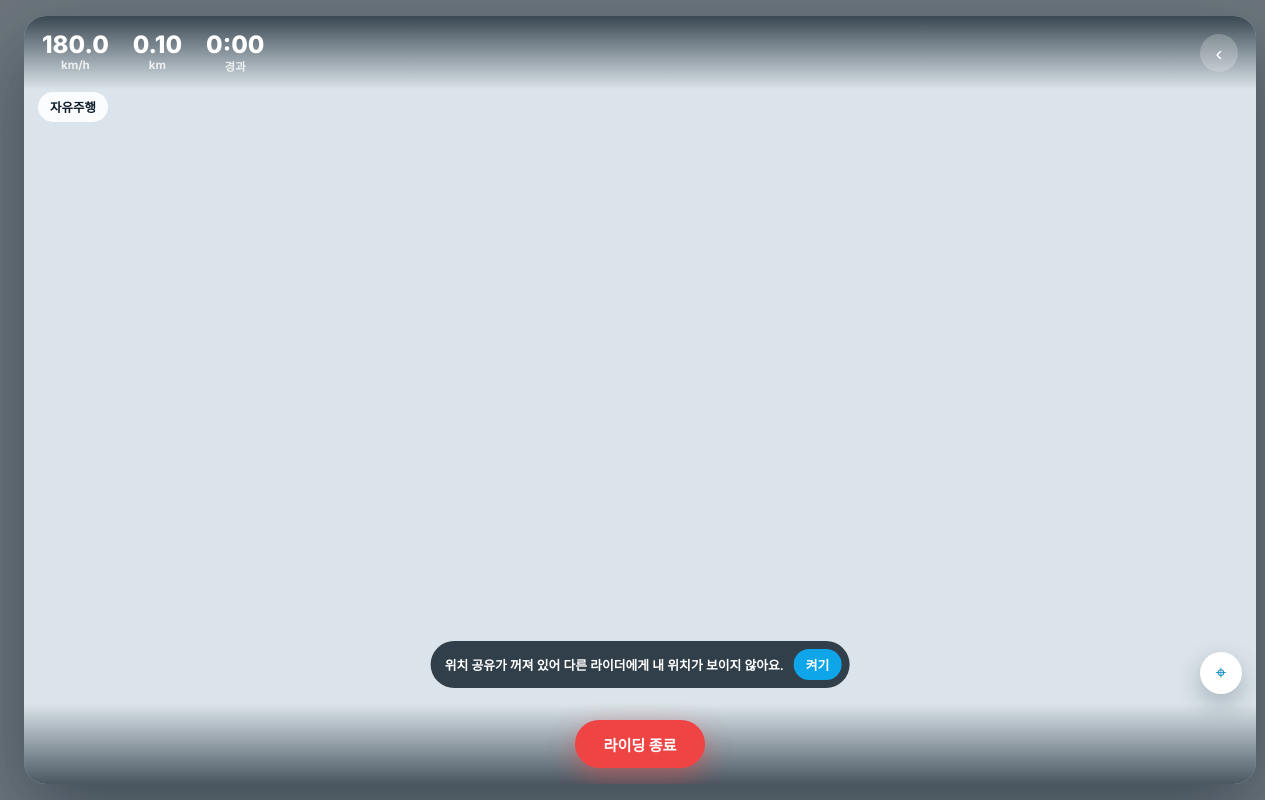
Test: StrictMode 에서도 종료 버튼을 누르면 기록을 한 번 저장한다
The image size is (1280, 800).
Click the button "라이딩 종료". click: (640, 744)
box: [575,720,705,768]
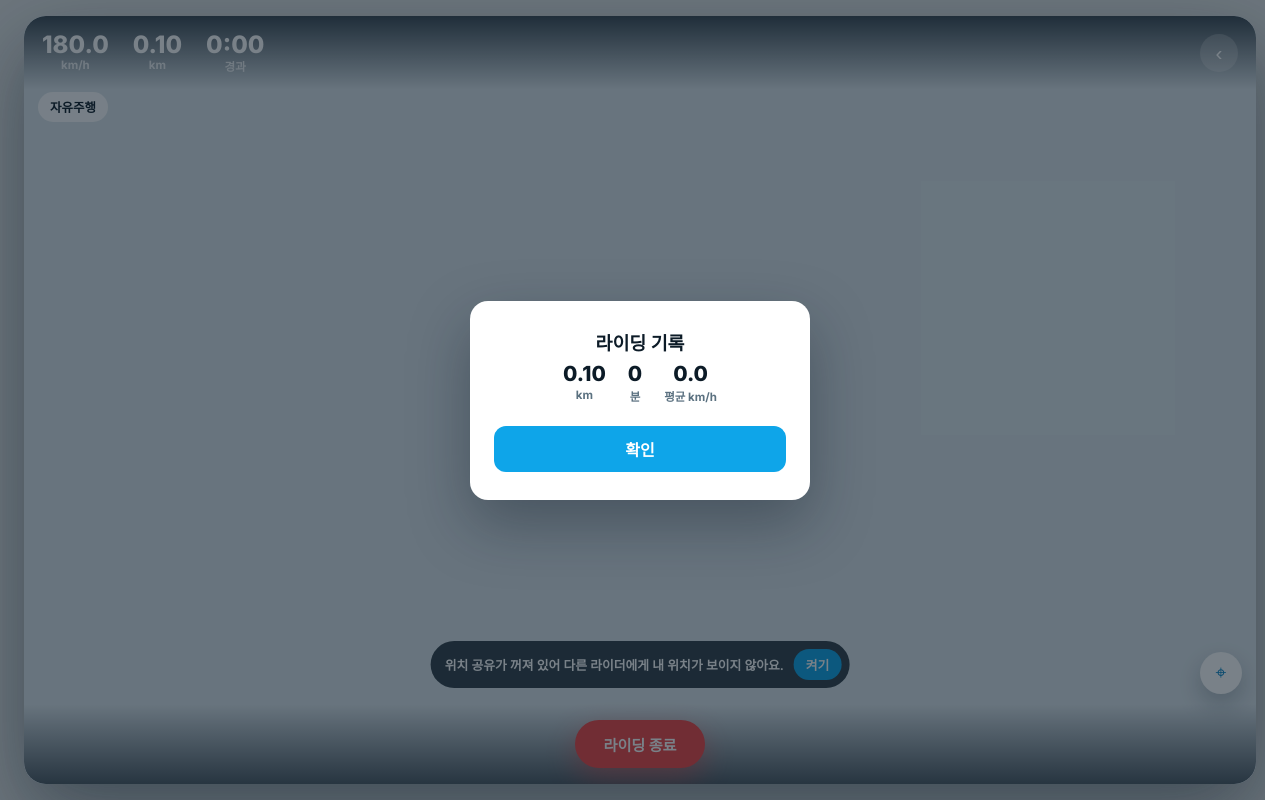
Check: the heading "라이딩 기록" is shown, box [596,332,684,354]
